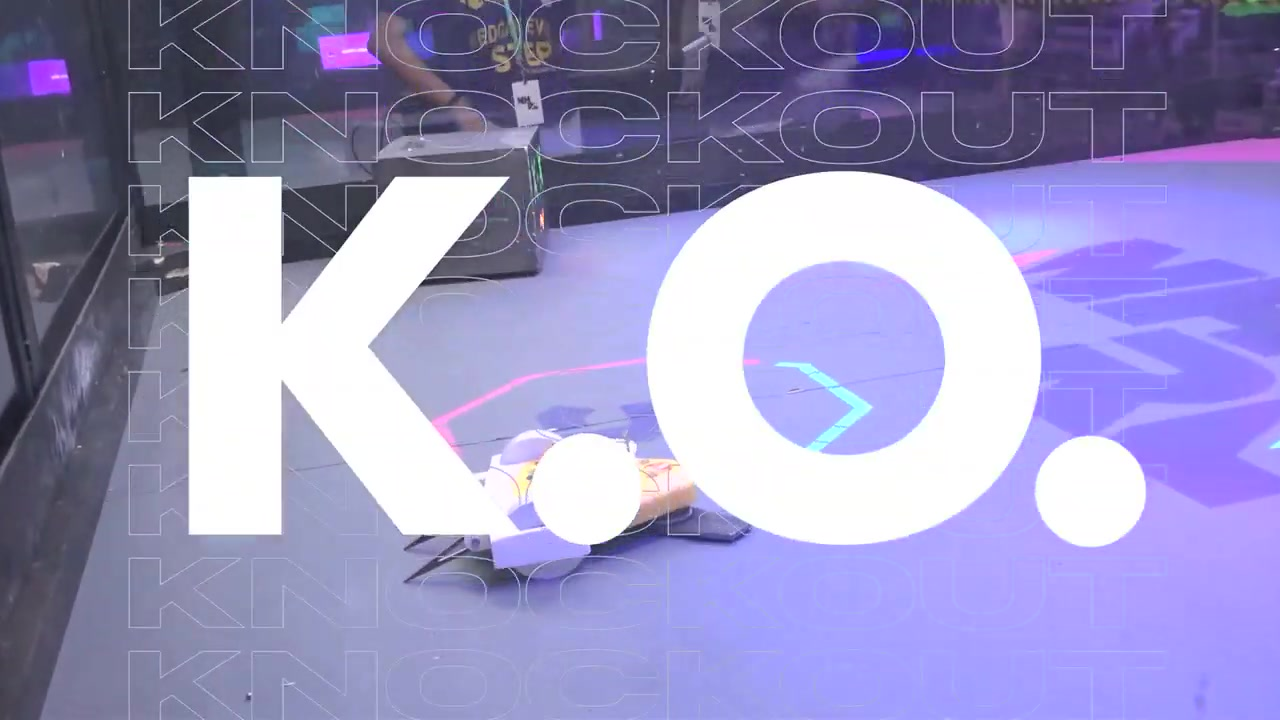combatbot: (398, 427, 752, 584)
housebot: (377, 134, 559, 273)
